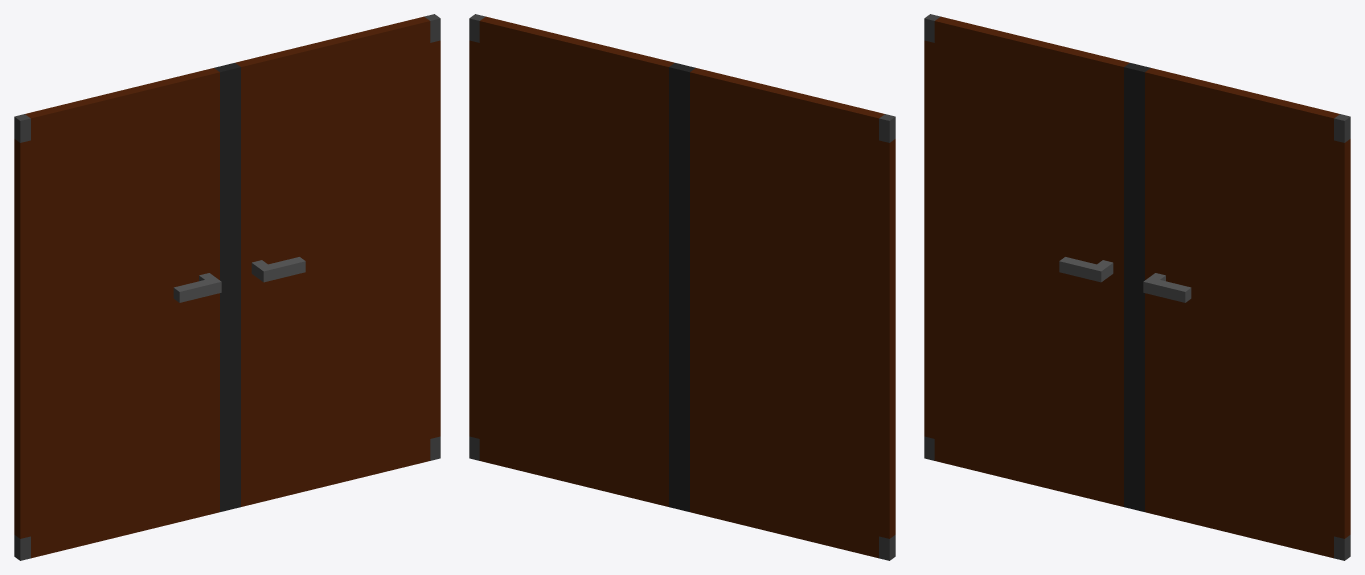
The model's file is DoubleDoors.obj.
The picture shows the model from 3 angles, left to right: view 1: azimuth 30°, elevation 25°; view 2: azimuth 150°, elevation 25°; view 3: azimuth 330°, elevation 25°; orthographic projection.
Bounding box in the file's own units: 4 × 4 × 0.3.
1 material, 1 textured.
